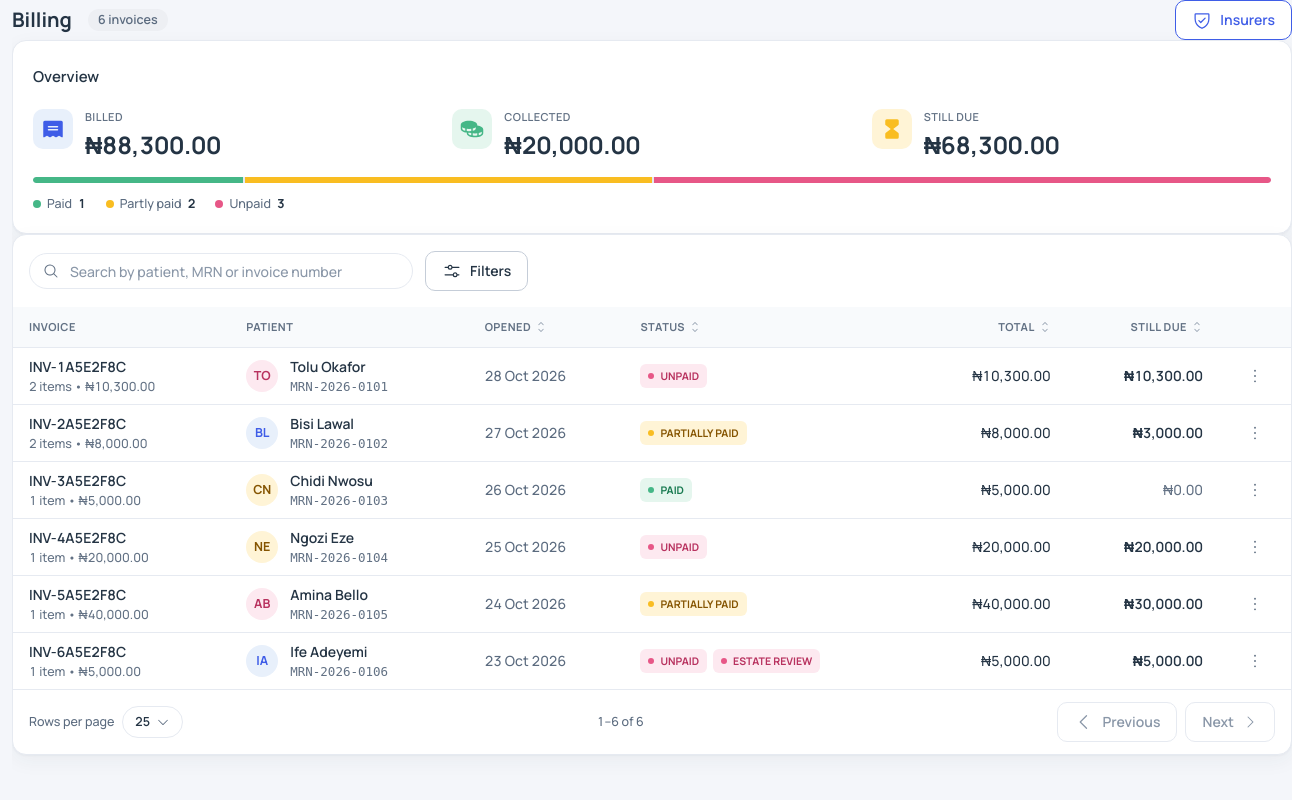
Test: billing screen (mock layer) › searches by patient, and the totals follow the search
Type "bisi" into the search field named "Search invoices".
click(221, 271); type("bisi")  # box x1=29 y1=253 x2=413 y2=289
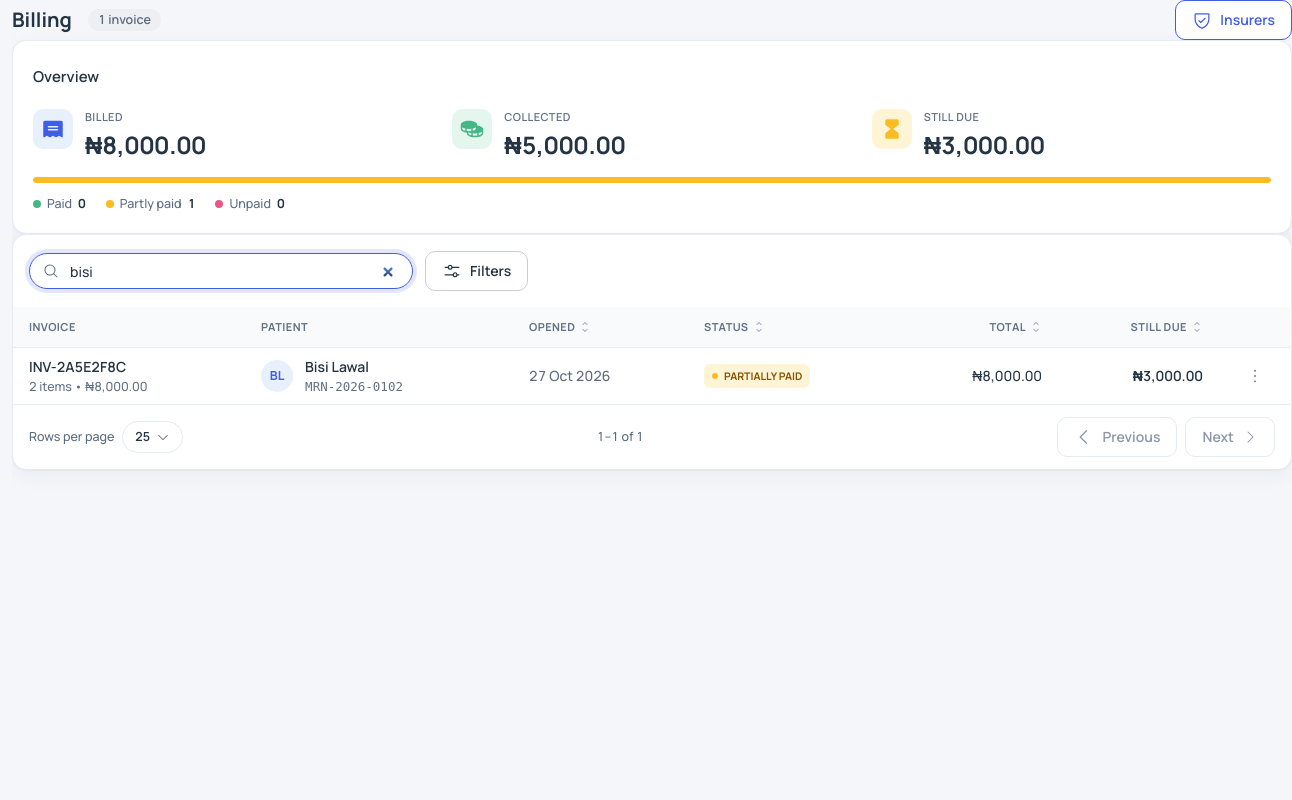
Expected: the text "1 invoice" is shown, x1=88 y1=9 x2=161 y2=31
Expected: the element "Overview" shows "₦8,000.00", x1=85 y1=128 x2=206 y2=161
Expected: the element "Overview" no longer shows "₦88,300.00", x1=12 y1=40 x2=1291 y2=234
